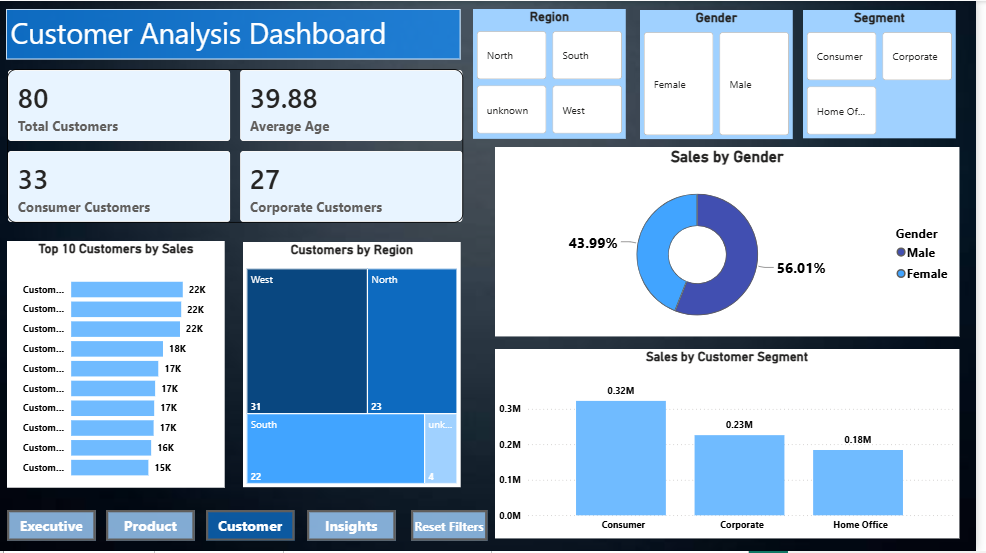

The dashboard page shown, as its layout file describes it:
{"tool":"powerbi","page":{"name":"Customer Analysis Dashboards","canvas":[1280,720],"ordinal":2},"visuals":[{"type":"clusteredColumnChart","title":"Sales by Customer Segment","fields":{"Y":["Orders(1).Total_Sale"],"Category":["Customers(1).Segment"]},"box":[650.9,455,607.7,247.7],"z":0},{"type":"advancedSlicerVisual","fields":{"Values":["Customers(1).Segment"]},"box":[1054.1,11.5,200,168.5],"z":1000},{"type":"advancedSlicerVisual","fields":{"Values":["Customers(1).Region"]},"box":[622.1,10.1,200,169.9],"z":2000},{"type":"treemap","title":"Customers by Region","fields":{"Group":["Customers(1).Region"],"Values":["Customers(1).Total Customers"]},"box":[321.1,315.4,285.1,321.1],"z":3000},{"type":"clusteredBarChart","title":"Top 10 Customers by Sales","fields":{"Category":["Customers(1).Customer_Name"],"Y":["Orders(1).Total_Sale"]},"box":[11.5,313.9,285.1,322.6],"z":4000},{"type":"textbox","box":[11,11,594.6,66.1],"z":5000},{"type":"donutChart","title":"Sales by Gender","fields":{"Category":["Customers(1).Gender"],"Y":["Orders(1).Total_Sale"]},"box":[650.9,191.5,607.7,247.7],"z":6000},{"type":"cardVisual","fields":{"Data":["Customers(1).Total Customers","Customers(1).Average Age","Customers(1).Consumer Customers","Customers(1).Corporate Customers"]},"box":[0,77.8,622.1,226.1],"z":7000},{"type":"advancedSlicerVisual","fields":{"Values":["Customers(1).Gender"]},"box":[841,11.5,200,169],"z":8000},{"type":"actionButton","box":[11.5,666.7,116,40.3],"z":9000},{"type":"actionButton","box":[141.1,666.7,116,40.3],"z":10000},{"type":"actionButton","box":[272.2,666.7,116,40.3],"z":11000},{"type":"actionButton","box":[404.6,666.7,116,40.3],"z":12000},{"type":"actionButton","box":[540,666.7,100,40],"z":13000}]}

Visuals, with their boxes in screenshot pixels (x1, y1, x2, y2), scaled from the page's 1280x720 canvas onto the 986x553 screenshot:
"Sales by Customer Segment" clusteredColumnChart: x1=501 y1=349 x2=970 y2=540
advancedSlicerVisual - Customers(1).Segment: x1=812 y1=9 x2=966 y2=138
advancedSlicerVisual - Customers(1).Region: x1=479 y1=8 x2=633 y2=138
"Customers by Region" treemap: x1=247 y1=242 x2=467 y2=489
"Top 10 Customers by Sales" clusteredBarChart: x1=9 y1=241 x2=228 y2=489
textbox: x1=8 y1=8 x2=467 y2=59
"Sales by Gender" donutChart: x1=501 y1=147 x2=970 y2=337
cardVisual - Customers(1).Total Customers x Customers(1).Average Age: x1=0 y1=60 x2=479 y2=233
advancedSlicerVisual - Customers(1).Gender: x1=648 y1=9 x2=802 y2=139
actionButton: x1=9 y1=512 x2=98 y2=543
actionButton: x1=109 y1=512 x2=198 y2=543
actionButton: x1=210 y1=512 x2=299 y2=543
actionButton: x1=312 y1=512 x2=401 y2=543
actionButton: x1=416 y1=512 x2=493 y2=543
